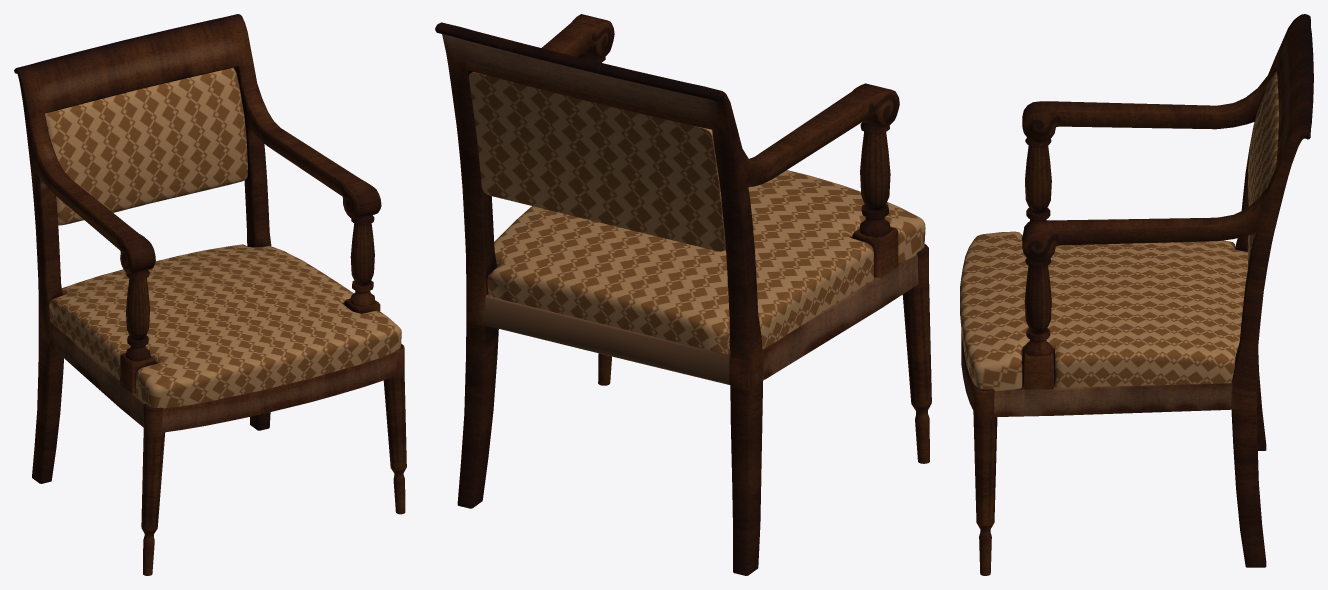
The model's file is ChairRetro05.FBX.
3 renders of one model, left to right at view 1: azimuth 30°, elevation 25°; view 2: azimuth 150°, elevation 25°; view 3: azimuth 270°, elevation 25°, orthographic. The views are drawn at different scales.
Visible parts, largest first — view 1: ChairRetro05; view 2: ChairRetro05; view 3: ChairRetro05.
Part boxes in pixels (<box>): ChairRetro05: <box>14,14,406,575</box>; ChairRetro05: <box>435,14,931,575</box>; ChairRetro05: <box>960,14,1313,575</box>.
Size of the model in its own units: 0.706 by 1.01 by 0.7507.
